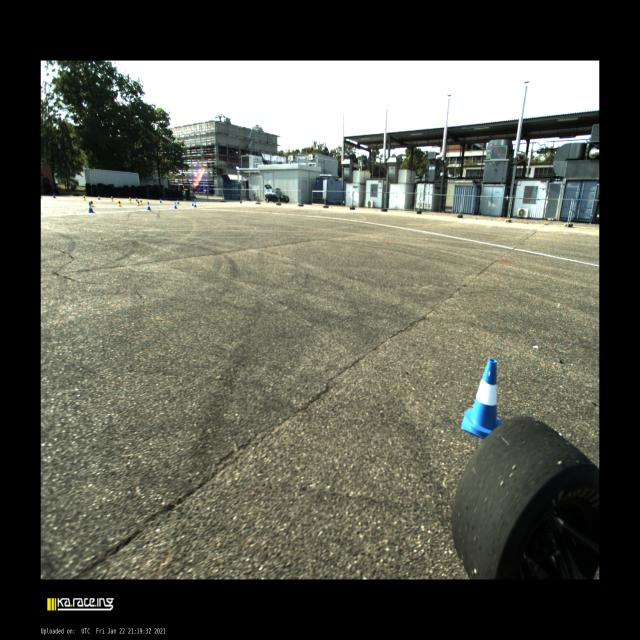blue_cone: (462, 358, 502, 438), (88, 202, 95, 212), (147, 202, 151, 210), (174, 202, 177, 208), (191, 200, 194, 206), (194, 202, 197, 207), (159, 199, 162, 203), (53, 194, 56, 198), (177, 200, 179, 204), (98, 196, 100, 200), (136, 198, 137, 202)
yellow_cone: (90, 199, 94, 207), (118, 200, 122, 207), (111, 196, 114, 202), (83, 195, 86, 200), (130, 197, 132, 203), (138, 200, 140, 206), (140, 199, 142, 204)
